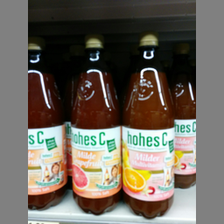juice: (121, 32, 177, 220), (70, 34, 123, 216), (28, 36, 68, 209)
